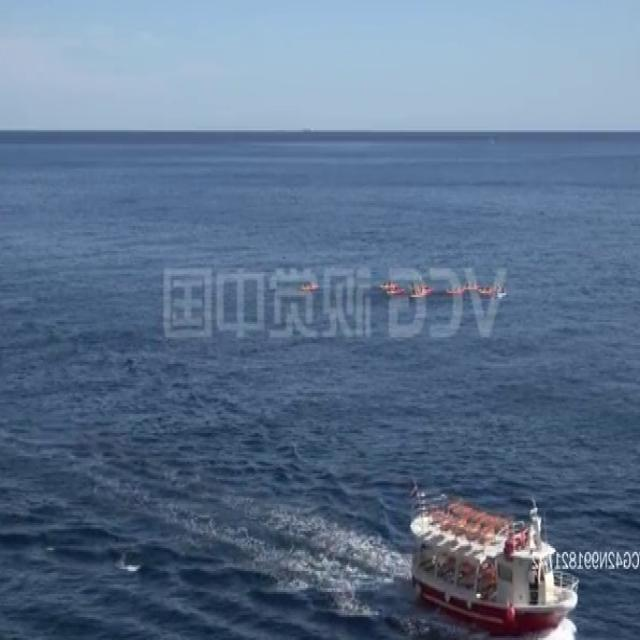houseboat: (412, 491, 576, 629), (377, 278, 406, 300), (295, 273, 321, 297), (410, 278, 434, 299), (483, 281, 506, 301), (446, 282, 465, 297), (463, 278, 482, 293)
